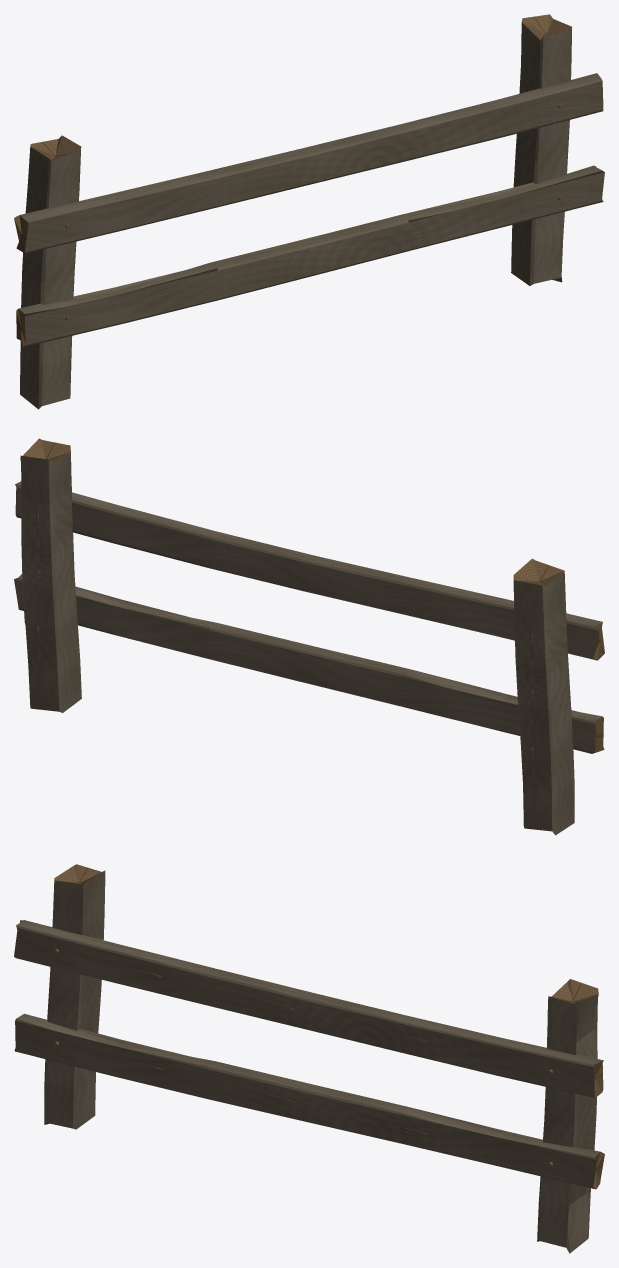
File: fence_short.fbx
The picture shows the model from 3 angles, top to bottom: view 1: azimuth 30°, elevation 25°; view 2: azimuth 150°, elevation 25°; view 3: azimuth 330°, elevation 25°; orthographic projection.
Visible parts, largest first — view 1: fence_short; view 2: fence_short; view 3: fence_short.
Part boxes in pixels (box(x1,y1,x2,y2)): fence_short: box(14, 14, 604, 409); fence_short: box(14, 438, 604, 835); fence_short: box(14, 864, 604, 1253).
Size of what is drawn, in the model's own units: 1.8 by 0.75 by 0.1688.
1 material, 1 textured.
